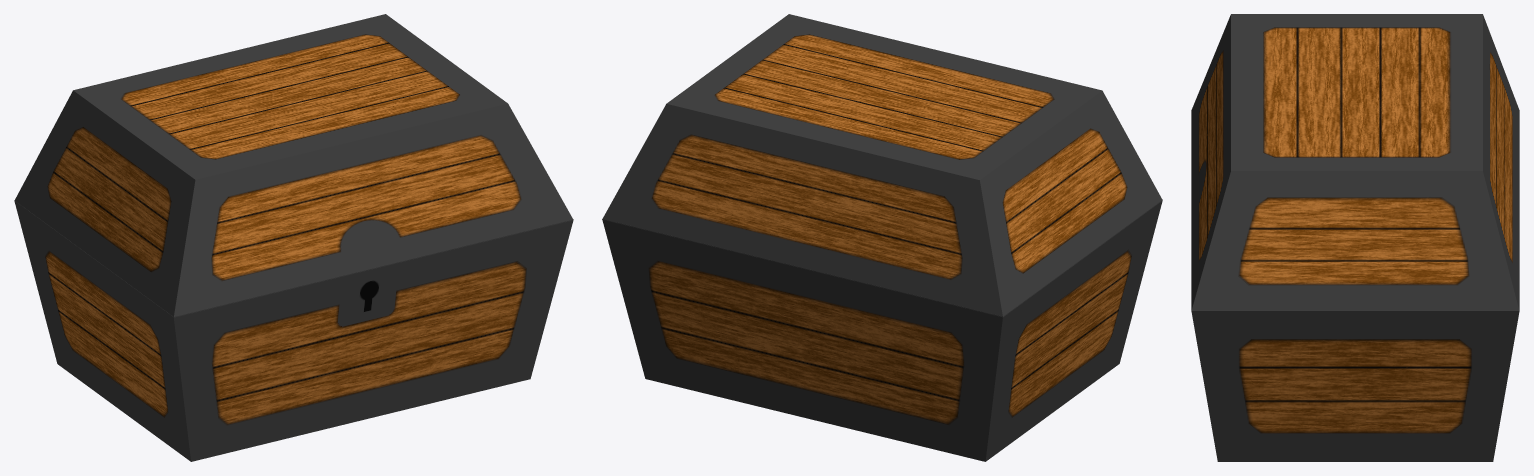
Rendered from treasureChest.fbx.
3 renders of one model, left to right at view 1: azimuth 30°, elevation 25°; view 2: azimuth 150°, elevation 25°; view 3: azimuth 270°, elevation 25°, orthographic. The views are drawn at different scales.
Visible parts, largest first — view 1: treasureFlatTopper; view 2: treasureFlatTopper; view 3: treasureFlatTopper.
Boxes of the visible parts, x1,y1,x2,y2 form: treasureFlatTopper: (14, 14, 573, 461); treasureFlatTopper: (602, 14, 1162, 461); treasureFlatTopper: (1191, 14, 1519, 461).
Bounding box in the file's own units: 1.99 × 1.31 × 1.38.
2 materials, 2 textured.
